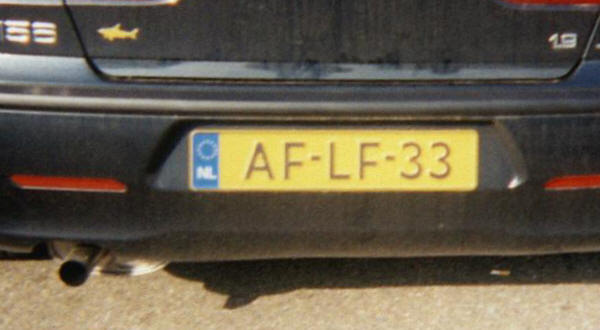license_plate: (188, 127, 479, 193)
